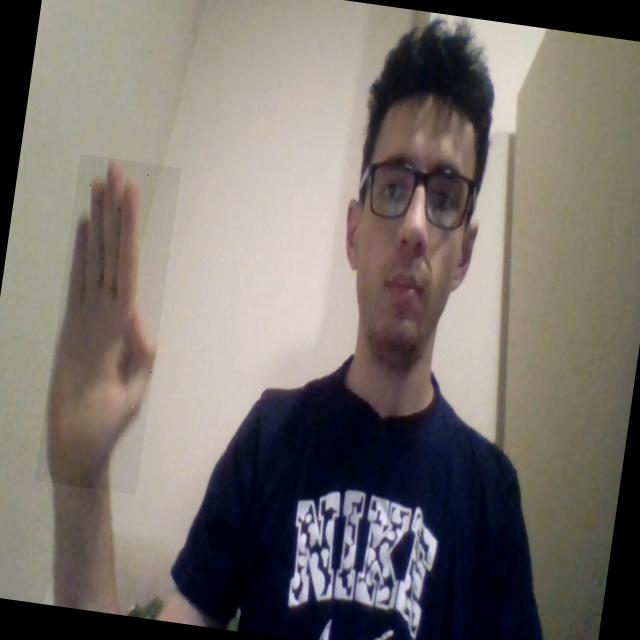hello: (35, 154, 182, 495)
